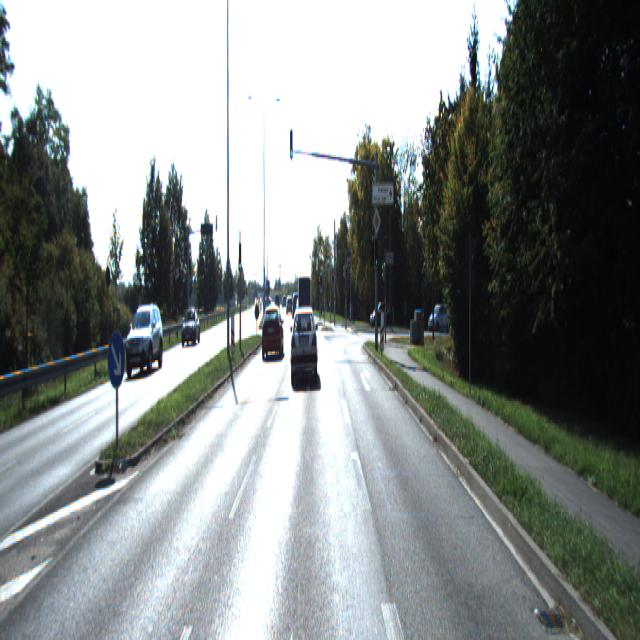Car: (125, 304, 163, 374), (290, 315, 318, 388), (262, 308, 284, 362), (182, 311, 200, 348)
DontCare: (368, 301, 391, 330), (430, 299, 450, 329), (274, 290, 298, 309)
Van: (297, 276, 311, 335)
